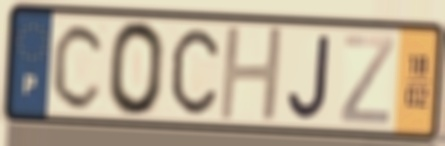C: (49, 20, 109, 113), (169, 26, 222, 119)
H: (216, 23, 287, 124)
J: (285, 31, 333, 122)
O: (106, 18, 168, 120)
Z: (337, 33, 397, 128)
